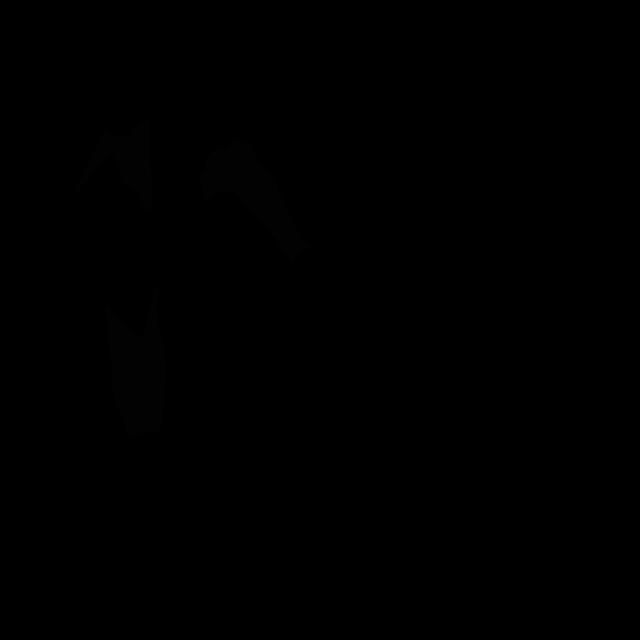cardboard: (199, 141, 310, 265), (104, 287, 166, 435), (74, 119, 153, 212)
